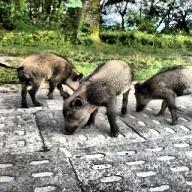boar: (56, 58, 133, 138)
